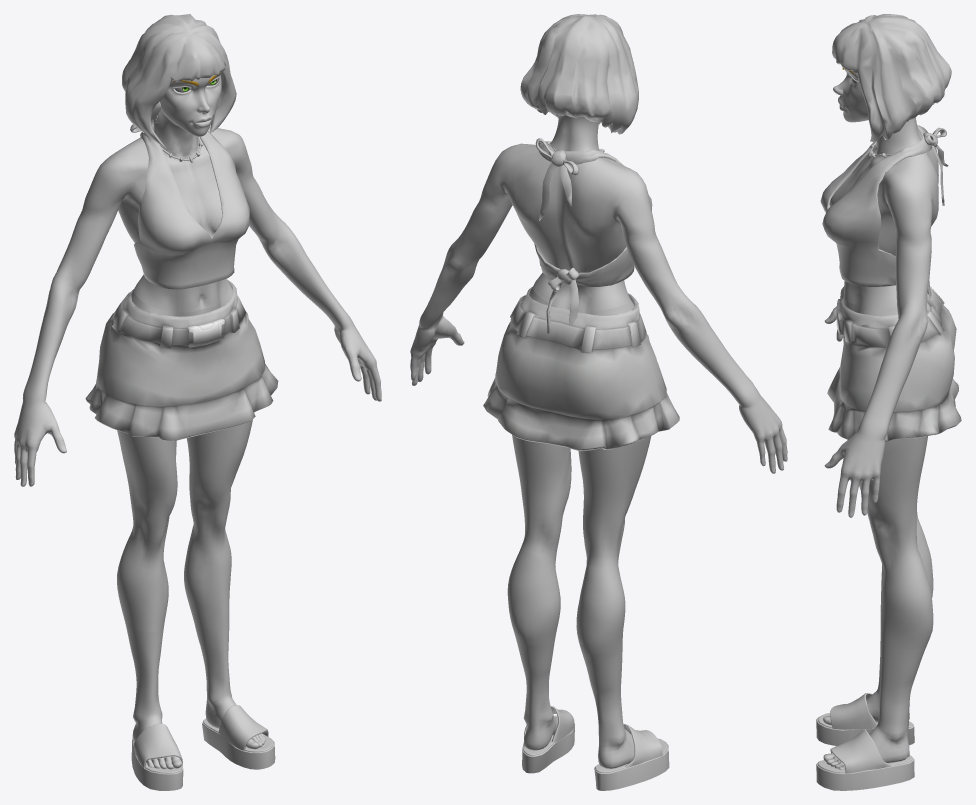
Rendered from W Character 16.fbx.
3 renders of one model, left to right at view 1: azimuth 30°, elevation 25°; view 2: azimuth 150°, elevation 25°; view 3: azimuth 270°, elevation 25°, orthographic. The views are drawn at different scales.
Visible parts, largest first — view 1: body.002, skirt 2, legs.001, Wolf3D_Outfit_Top.007, Wolf3D_Hair.004, legs, Wolf3D_Outfit_Footwear.008, head; view 2: body.002, skirt 2, legs.001, Wolf3D_Hair.004, legs, Wolf3D_Outfit_Top.007, Wolf3D_Outfit_Footwear.008, head; view 3: body.002, skirt 2, legs.001, Wolf3D_Hair.004, Wolf3D_Outfit_Top.007, Wolf3D_Outfit_Footwear.008, legs, head.
Boxes of the visible parts, x1,y1,x2,y2 form: body.002: (14, 127, 381, 486); skirt 2: (85, 279, 278, 440); legs.001: (117, 419, 252, 631); Wolf3D_Outfit_Top.007: (130, 123, 249, 289); Wolf3D_Hair.004: (122, 14, 236, 148); legs: (125, 282, 266, 769); Wolf3D_Outfit_Footwear.008: (131, 705, 275, 790); head: (154, 72, 221, 152); body.002: (410, 143, 787, 473); skirt 2: (483, 286, 679, 451); legs.001: (507, 435, 651, 661); Wolf3D_Hair.004: (520, 14, 638, 134); legs: (516, 286, 634, 768); Wolf3D_Outfit_Top.007: (534, 138, 652, 333); Wolf3D_Outfit_Footwear.008: (522, 706, 669, 790); head: (546, 115, 598, 167); body.002: (824, 144, 938, 517); skirt 2: (827, 286, 961, 441); legs.001: (859, 436, 933, 649); Wolf3D_Hair.004: (832, 14, 951, 142); Wolf3D_Outfit_Top.007: (820, 125, 948, 313); Wolf3D_Outfit_Footwear.008: (816, 693, 914, 790); legs: (823, 289, 926, 769); head: (833, 68, 927, 153).
Bounding box in the file's own units: 96.47 × 190 × 33.83.
